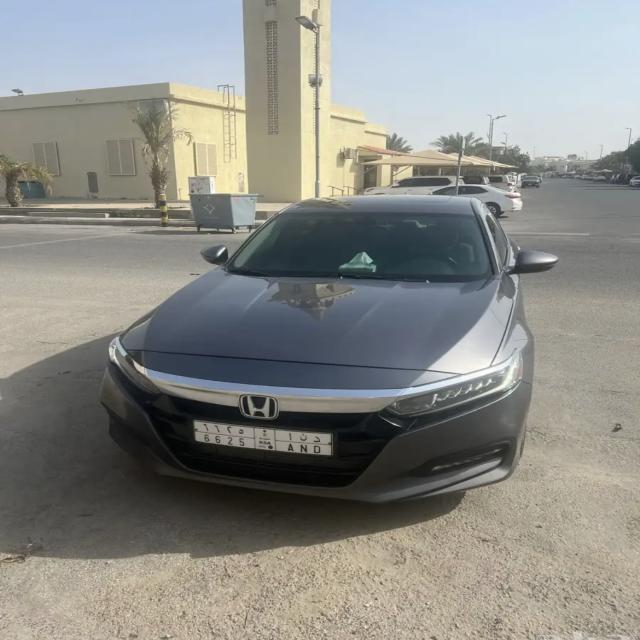license_plate: (191, 418, 334, 459)
